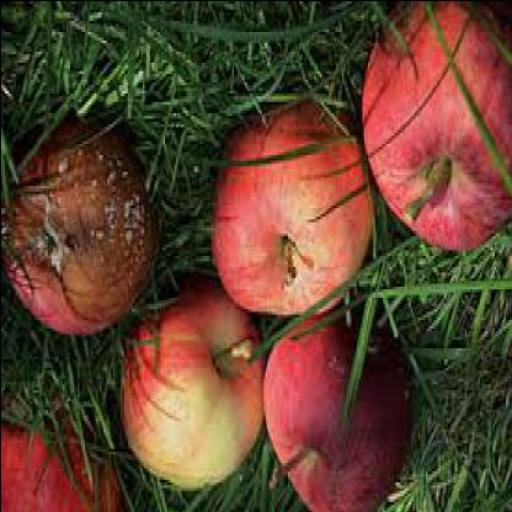biodegradable: (360, 2, 510, 255), (209, 98, 372, 322), (2, 112, 154, 338), (258, 305, 410, 511), (116, 277, 261, 492), (1, 415, 116, 511)
